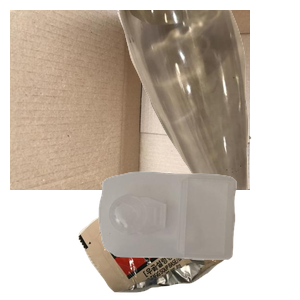cardboard: (10, 10, 250, 190)
glass: (115, 10, 300, 190)
plastic: (96, 169, 300, 300)
trash: (76, 170, 300, 300)
